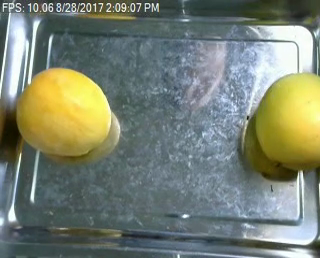Mango: (17, 67, 110, 157), (256, 72, 320, 171)
